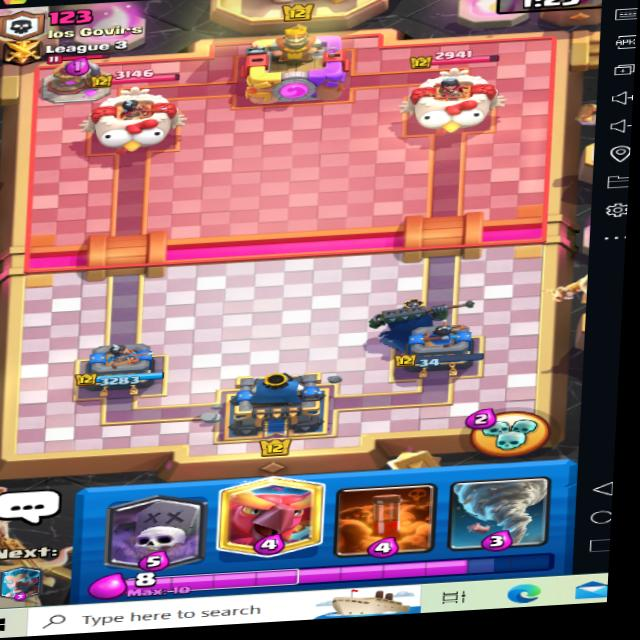elixir-collector: (43, 54, 115, 107)
